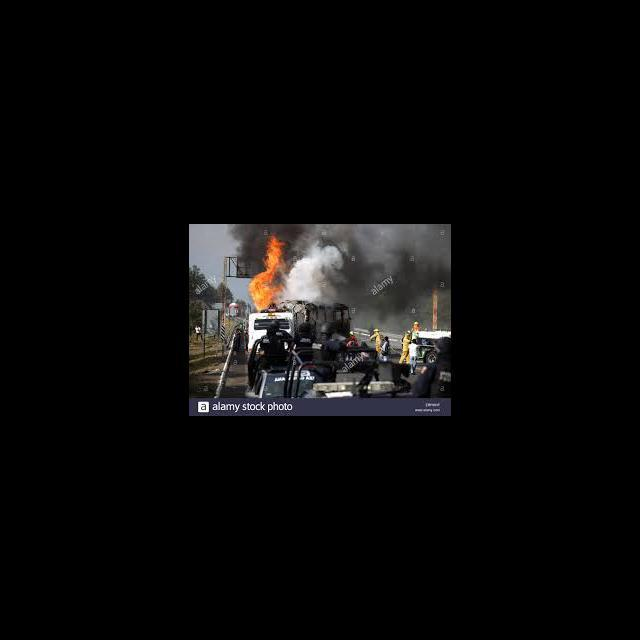Fire: (247, 235, 285, 312)
Smoke: (288, 224, 451, 300), (356, 299, 407, 329), (228, 224, 248, 257), (248, 224, 288, 235)
